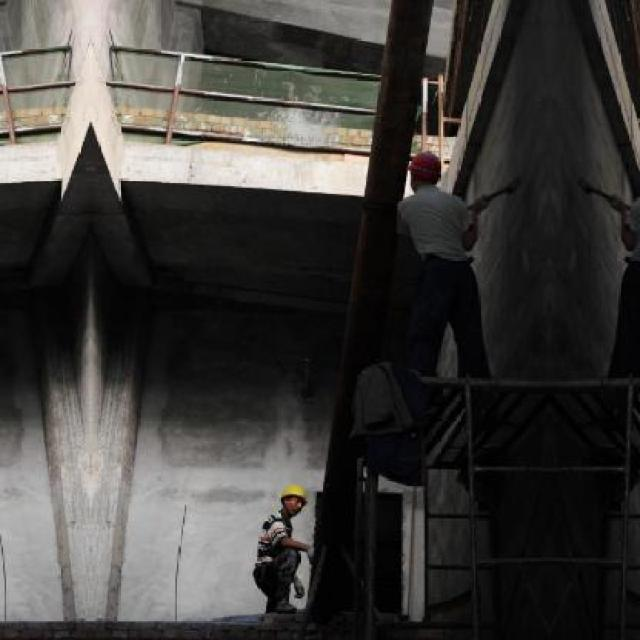helmet: (405, 140, 450, 202), (275, 484, 310, 522)
